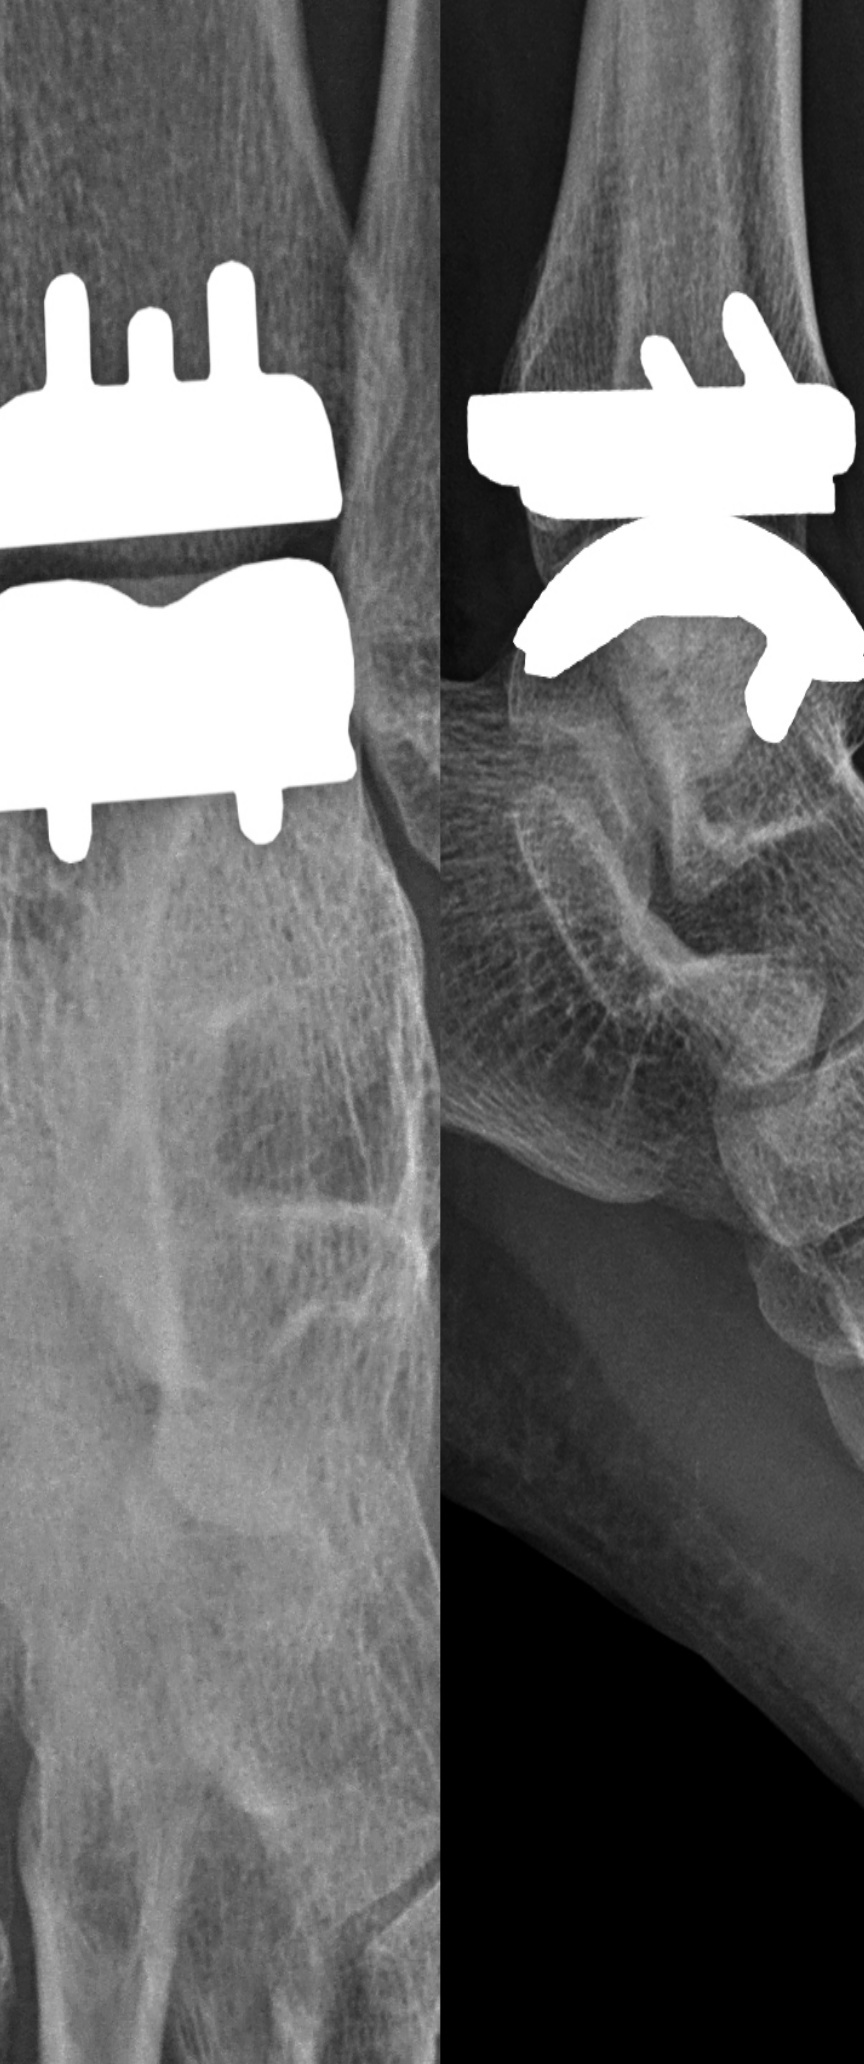Ankle - Infinity - Wright: (1, 247, 381, 882), (440, 282, 859, 758)
